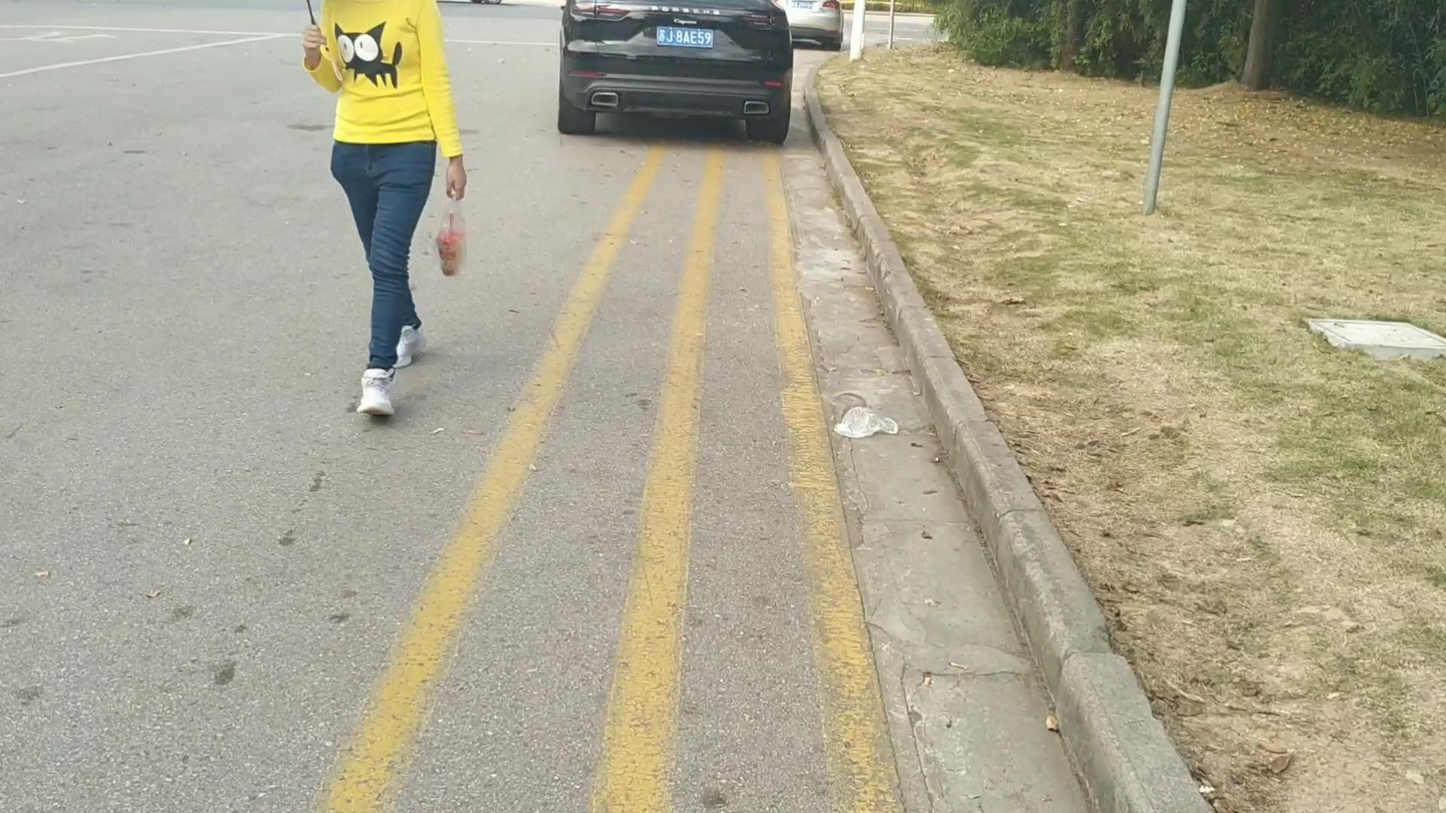car: (548, 1, 799, 147), (773, 0, 844, 48)
